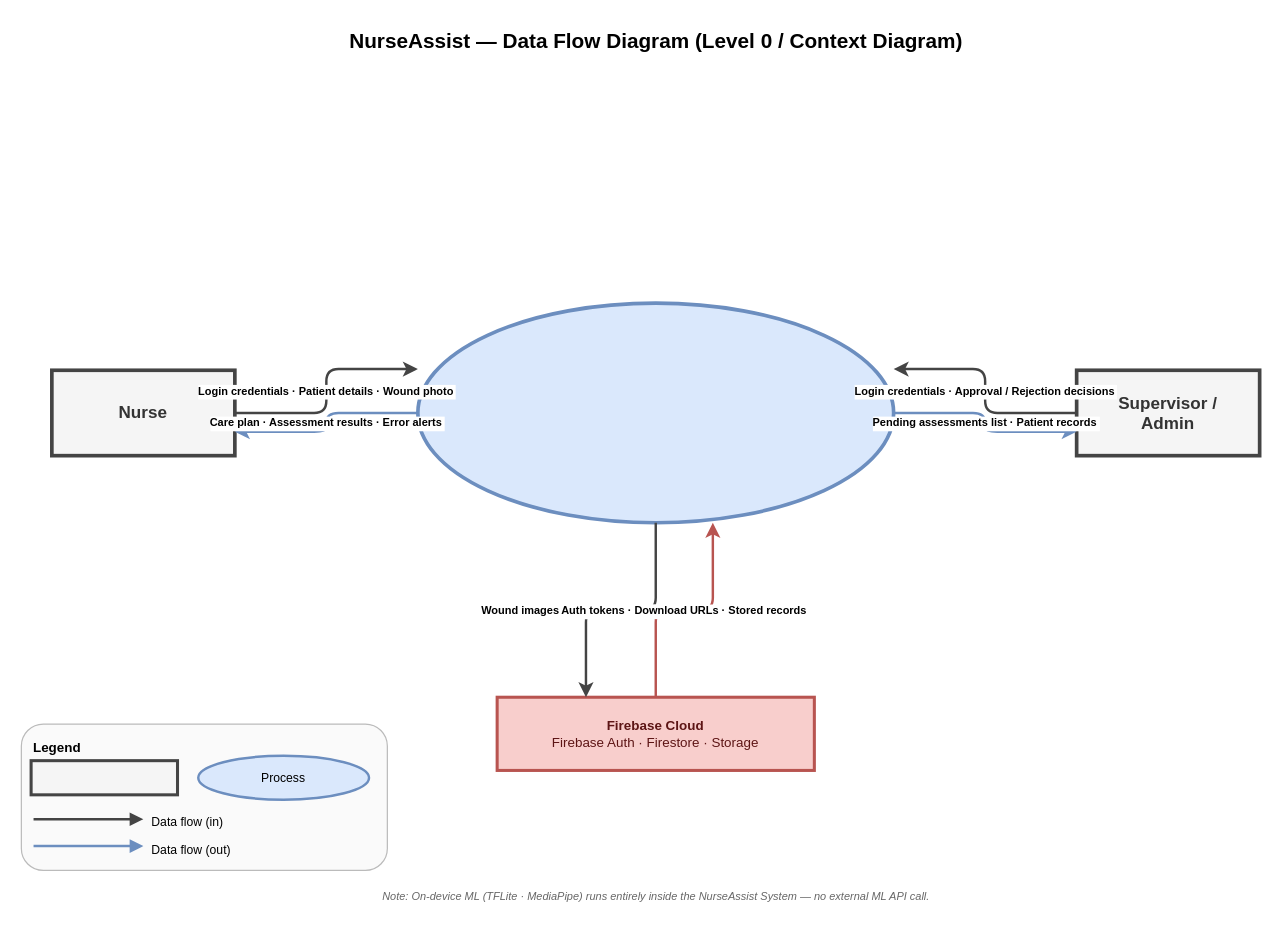
Some shapes in this 1282 by 925 pixel diagram are drawn without their labels. Each missing label, with the box of its shape:
0 NurseAssist System: (415, 301, 895, 524)
External Entity: (29, 759, 178, 796)
